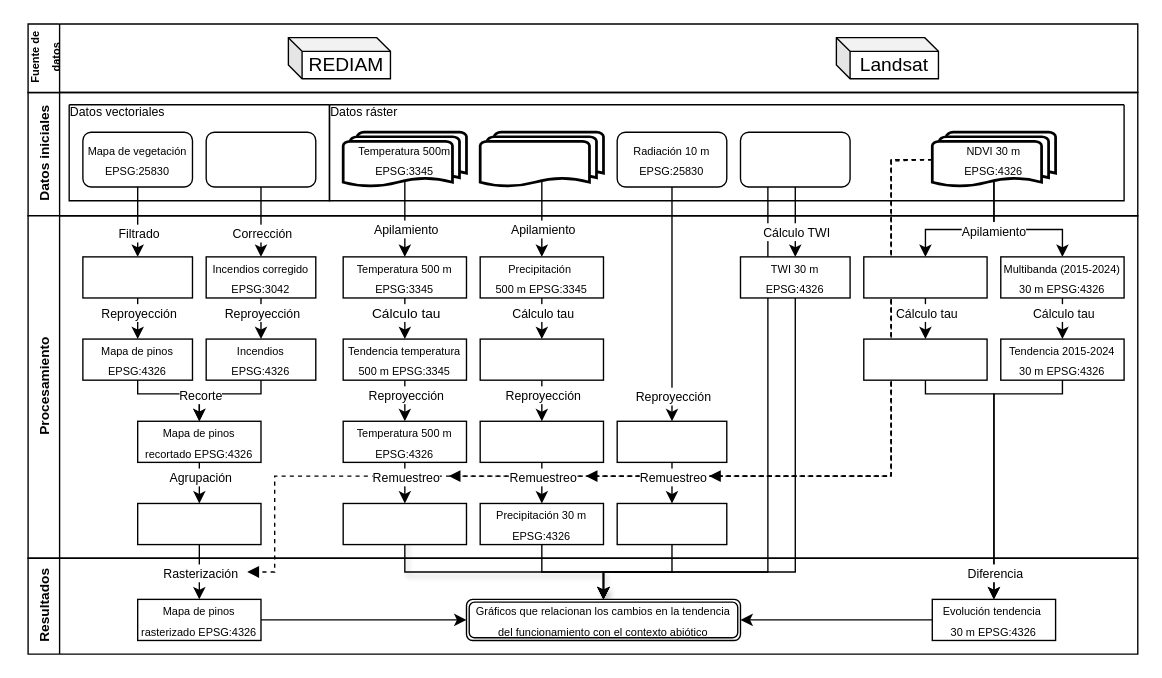
Some shapes in this 1162 by 678 pixel diagram are drawn without their labels. The centre of each missing label's shape, as x and y in pixels:
"Incendios EPSG:3042" belongs at [260,159].
"Mapa de pinos agrupado EPSG:4326" belongs at [198,523].
"Mapa de pinos EPSG:25830" belongs at [137,277].
"MDE 30 m EPSG:4326" belongs at [794,159].
"Multibanda (1984-2024) 30 m EPSG:4326" belongs at [924,277].
"Prcipitación 500m EPSG:3345" belongs at [541,159].
"Precipitación 500 m EPSG: 4326" belongs at [541,441].
"Radiación 10 m EPSG: 4326" belongs at [671,441].
"Radiación 30 m EPSG:4326" belongs at [671,523].
"Temperatura 30 m EPSG:4326" belongs at [404,523].
"Tendencia 1984-2024 30 m EPSG:4326" belongs at [924,359].
"Tendencia precip. 500 m EPSG:3345" belongs at [541,359].
